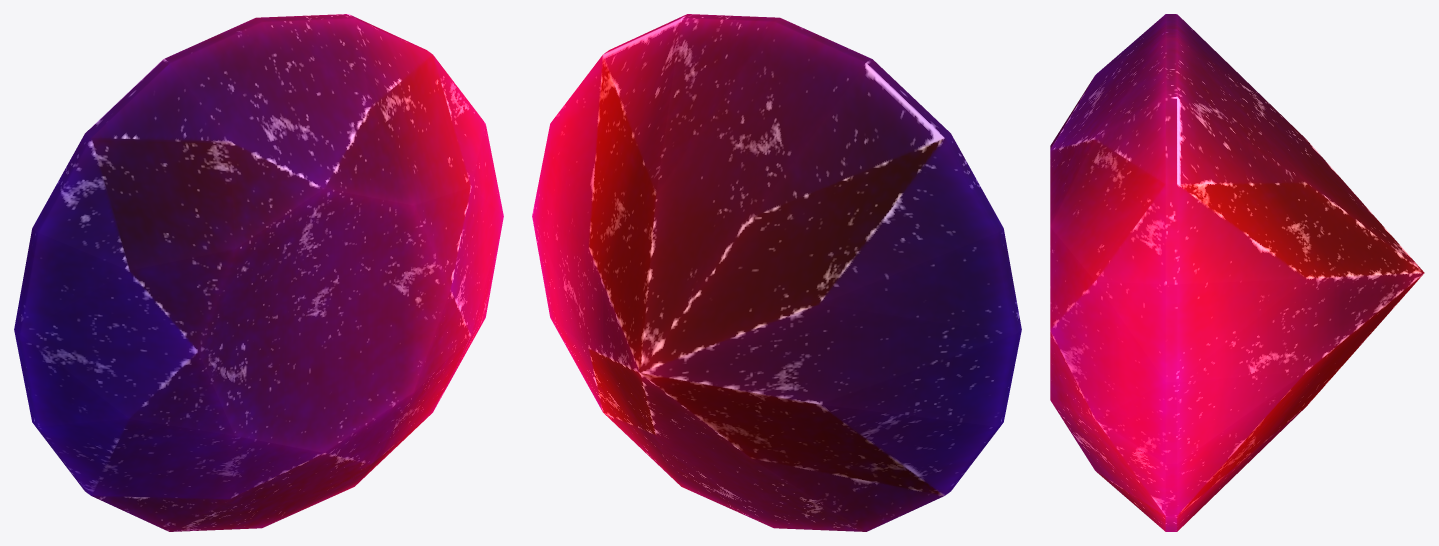
Rendered from powerUp.fbx.
3 views of the same model, side by side, from view 1: azimuth 30°, elevation 25°; view 2: azimuth 150°, elevation 25°; view 3: azimuth 270°, elevation 25° (orthographic). The views are drawn at different scales.
Visible parts, largest first — view 1: Diamonds:Diamond_C; view 2: Diamonds:Diamond_C; view 3: Diamonds:Diamond_C.
Boxes of the visible parts, <box> form: Diamonds:Diamond_C: <box>14,14,503,531</box>; Diamonds:Diamond_C: <box>532,14,1021,531</box>; Diamonds:Diamond_C: <box>1050,14,1424,531</box>.
Bounding box in the file's own units: 90.68 × 90.68 × 65.6.
